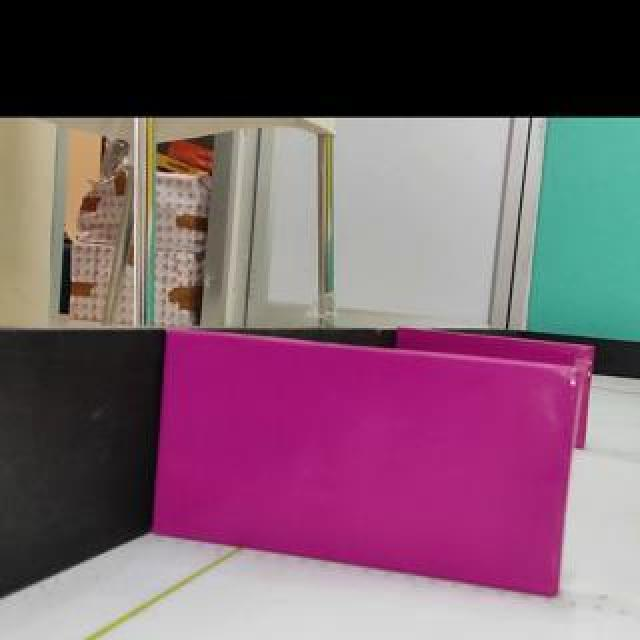xparking: (157, 333, 577, 600), (470, 342, 584, 354)
